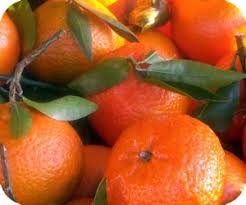orange: (87, 28, 207, 146), (104, 112, 231, 205), (1, 98, 89, 205)
